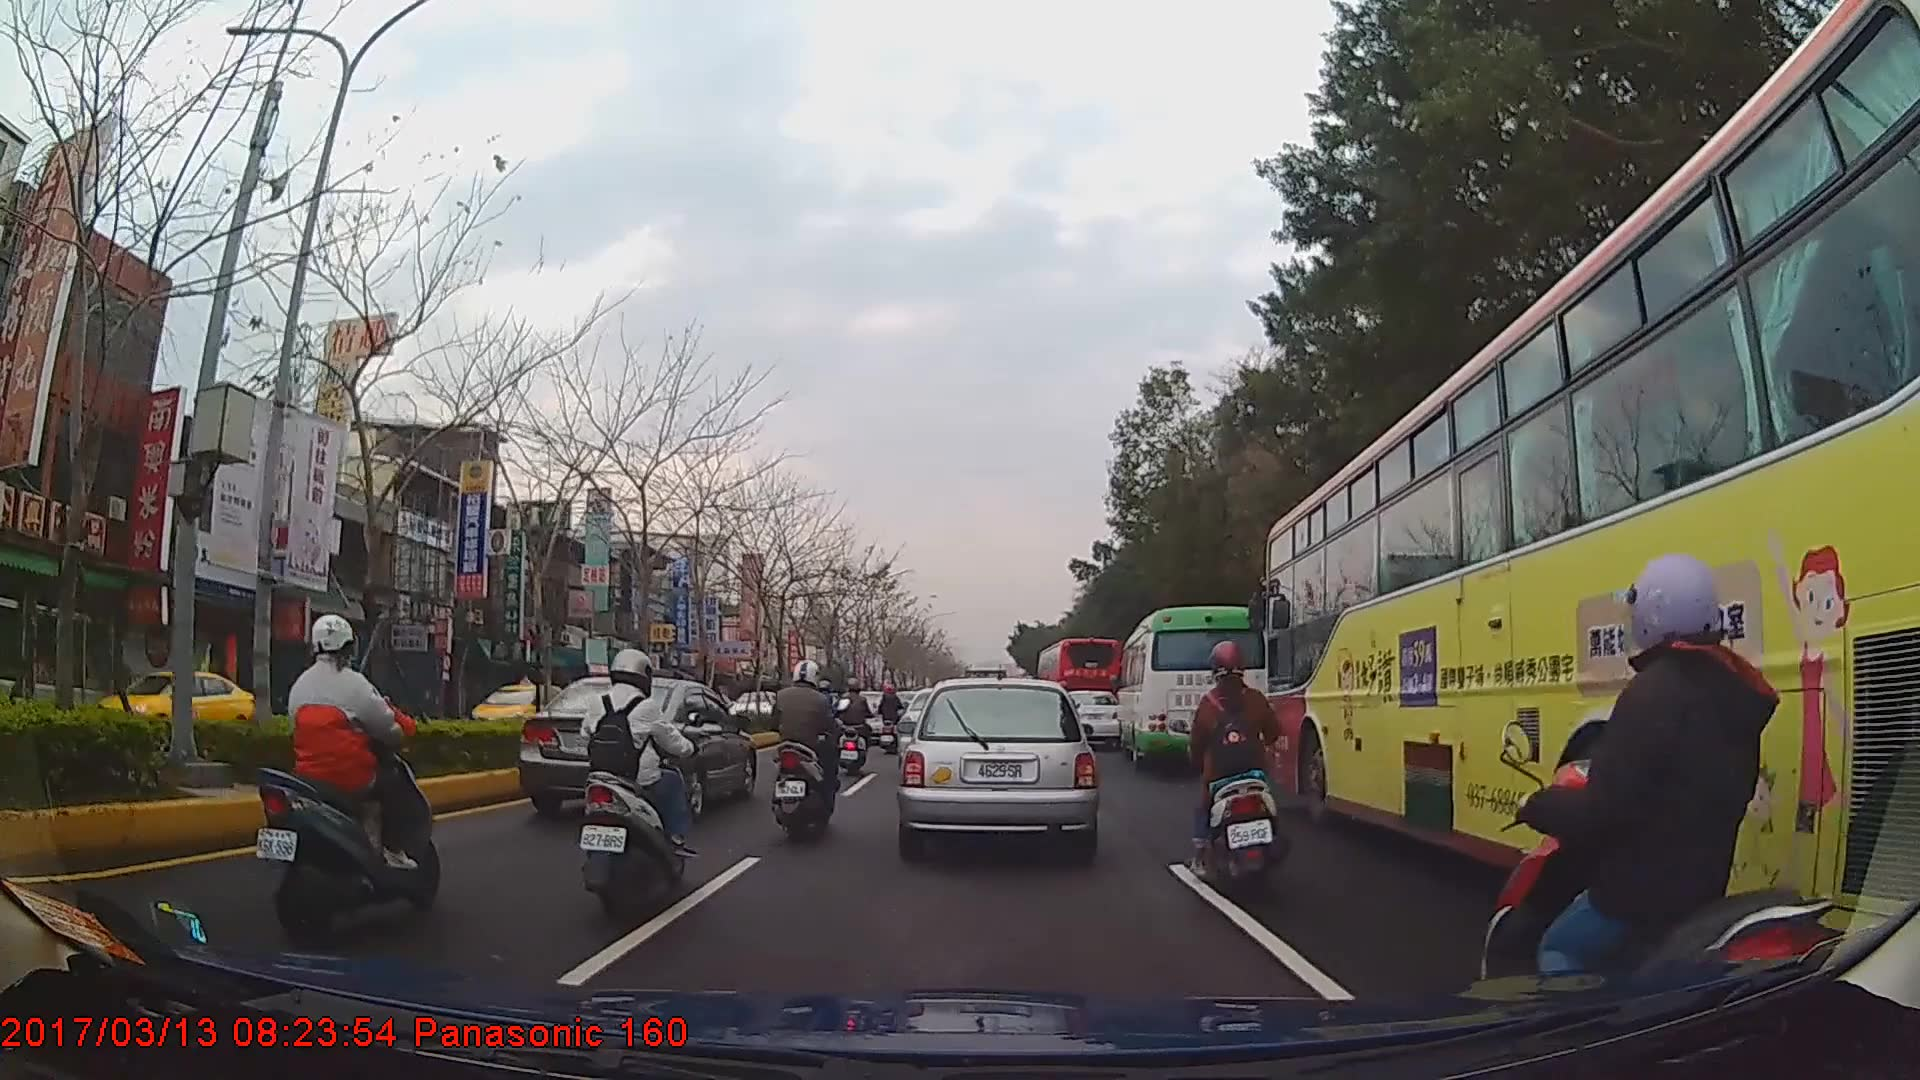rider: (1488, 553, 1858, 1044), (256, 608, 442, 943), (577, 643, 695, 927), (1173, 637, 1285, 896), (761, 658, 842, 842), (837, 677, 876, 774), (879, 682, 905, 754)
vehicle: (1262, 0, 1920, 961), (901, 674, 1098, 855), (515, 673, 756, 818), (1115, 605, 1265, 773), (84, 660, 263, 746), (1036, 634, 1121, 739), (461, 671, 574, 739)
